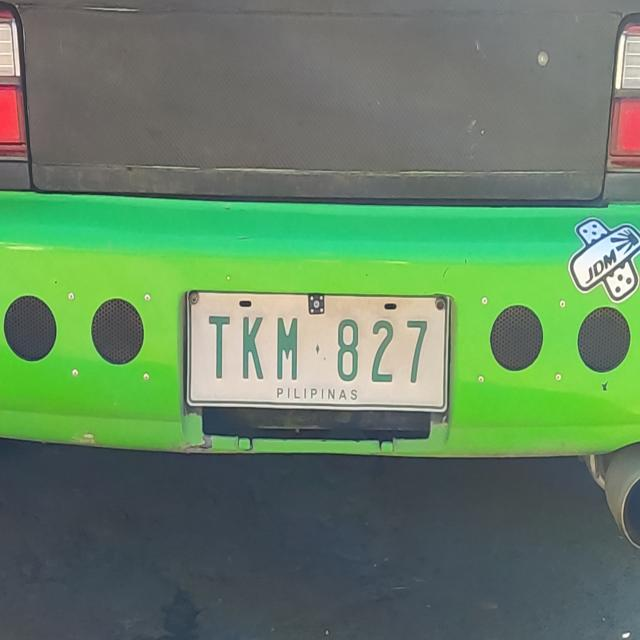plate: (182, 285, 456, 418)
